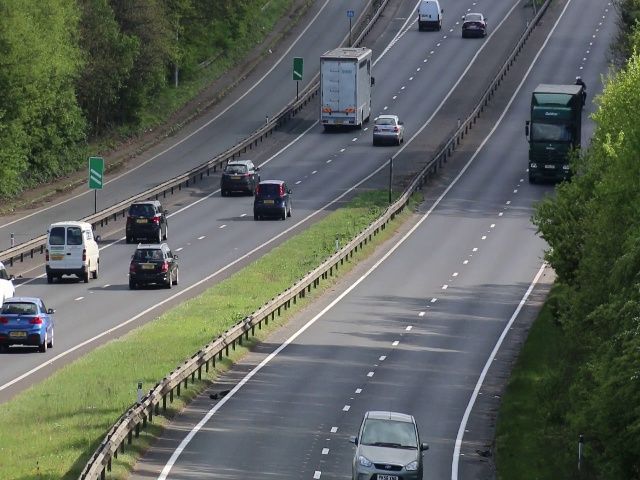car: (349, 408, 426, 480), (318, 44, 370, 134), (524, 93, 574, 185), (46, 220, 101, 285), (1, 297, 54, 354), (129, 243, 180, 290), (125, 201, 169, 241), (253, 180, 294, 222), (220, 158, 252, 197), (373, 114, 404, 145), (418, 1, 441, 32), (461, 13, 487, 37)
